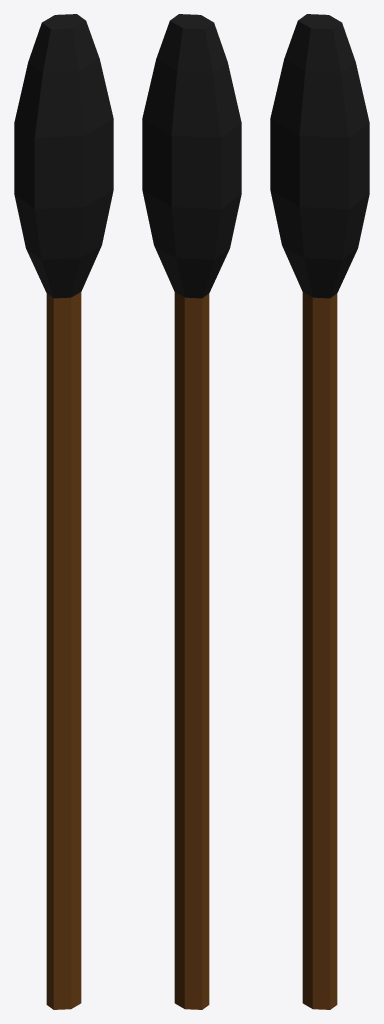
File: Weapon_TorchUV.fbx
3 views of the same model, side by side, from view 1: azimuth 30°, elevation 25°; view 2: azimuth 150°, elevation 25°; view 3: azimuth 330°, elevation 25° (orthographic).
Visible parts, largest first — view 1: Cylinder.001; view 2: Cylinder.001; view 3: Cylinder.001.
Boxes of the visible parts, <box> form: Cylinder.001: <box>14,14,113,1009</box>; Cylinder.001: <box>142,14,241,1009</box>; Cylinder.001: <box>270,14,369,1009</box>.
Size of the model in its own units: 9.57 by 114 by 8.6.
